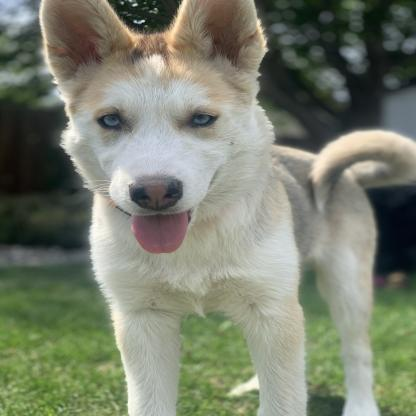husky: (38, 0, 413, 415)
